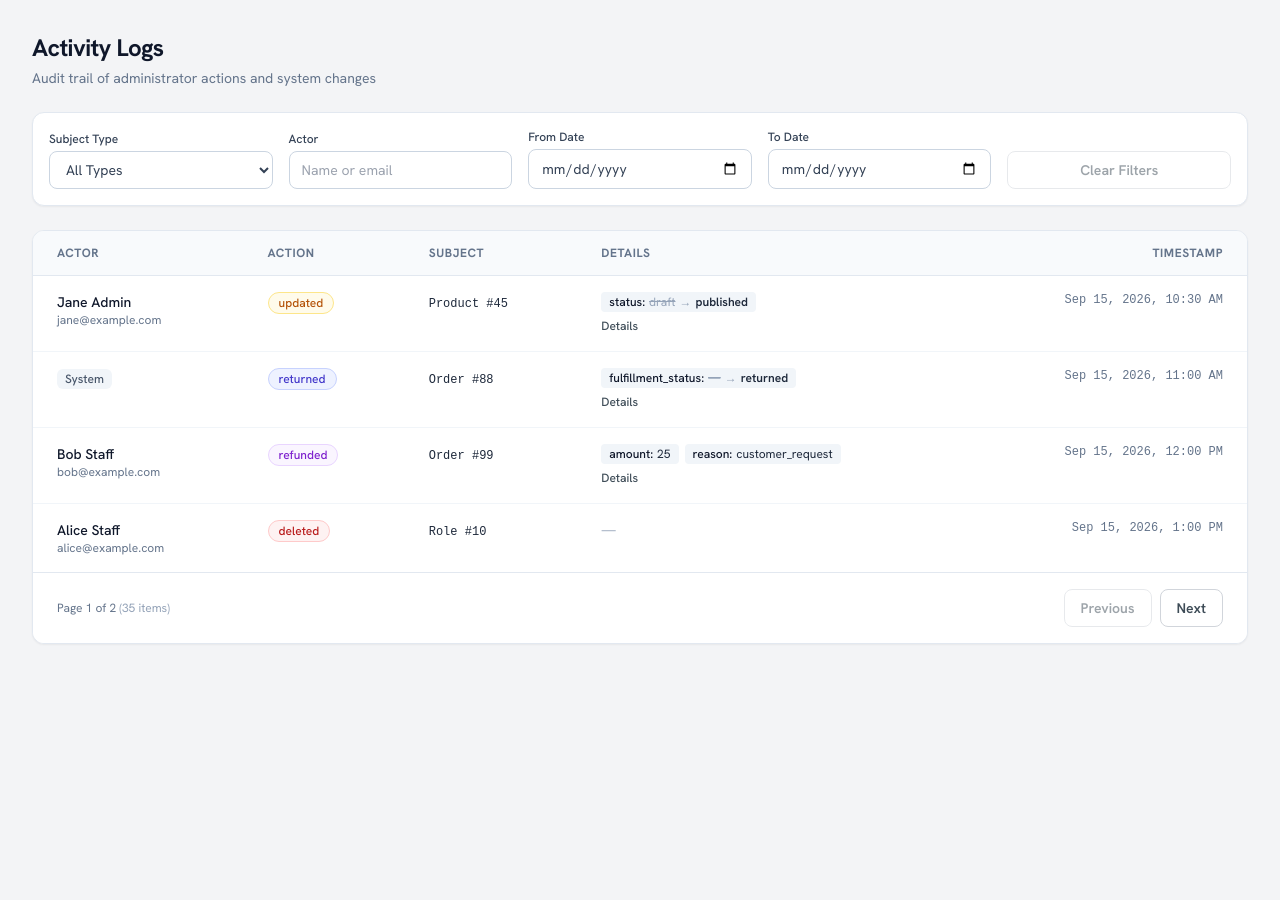
Test case: ActivityLogsPage › toggles properties detail expansion cleanly
The width and height of the screenshot is (1280, 900).
Expected: the text "Jane Admin" is shown, [57,293,131,311]
# Expand first item
Click the button "Details" below "draft": {"x": 620, "y": 326} [601,318,638,334]
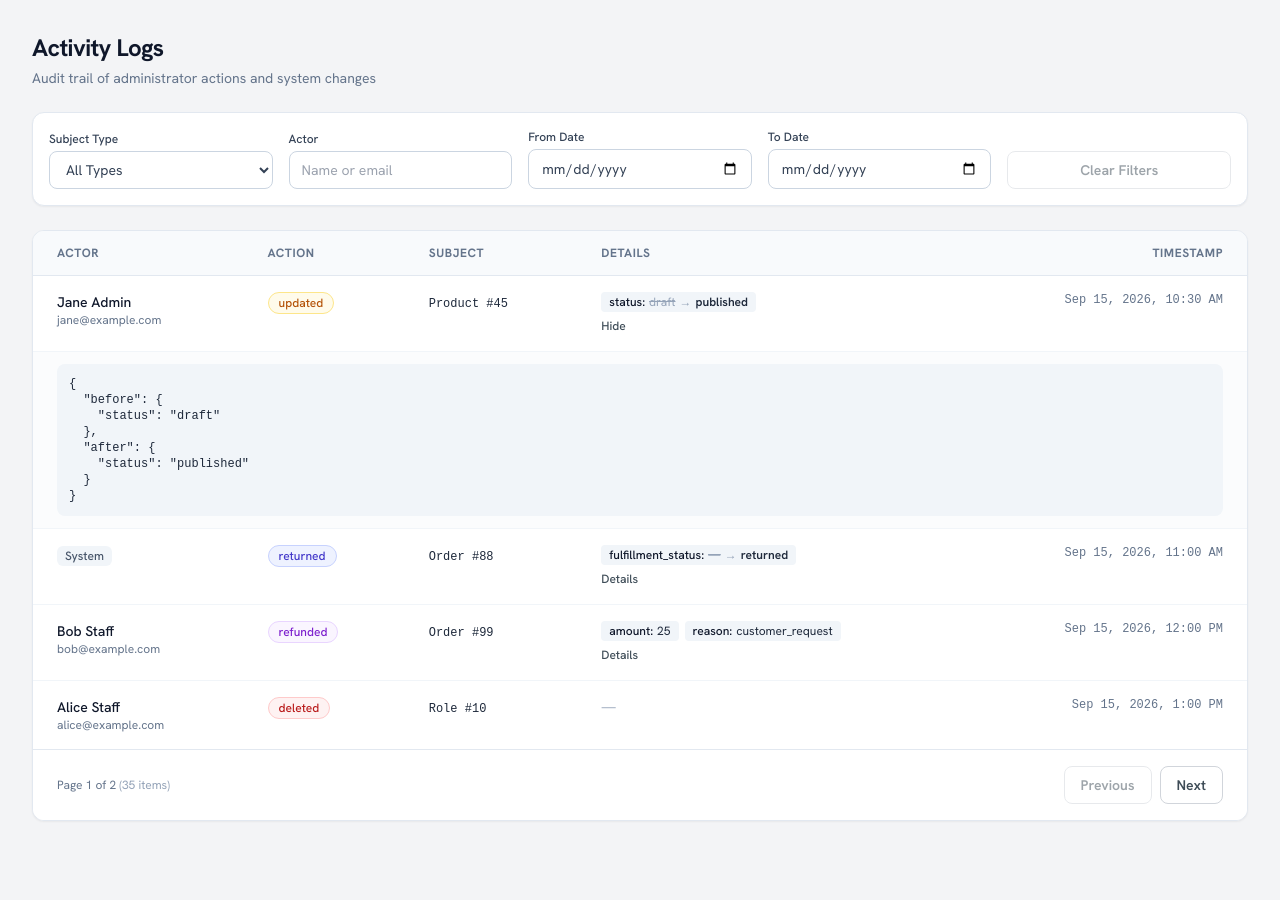
Result: the text "\"status\": \"published\"" is shown at [69,377,249,503]
Result: the button "Hide" is shown
Click the button "Hide": {"x": 614, "y": 326} [601,318,626,334]
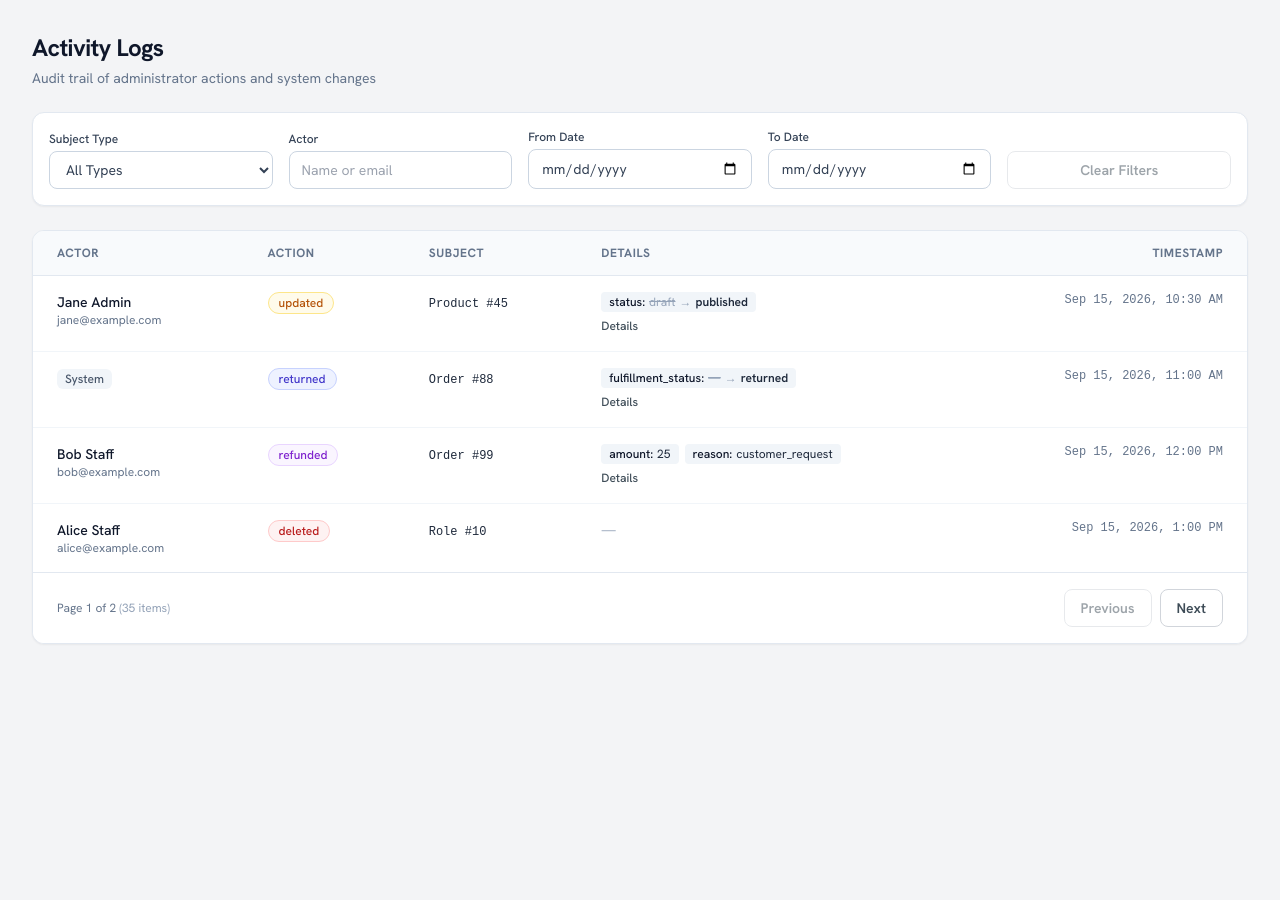
Result: the text "\"status\": \"published\"" is gone
